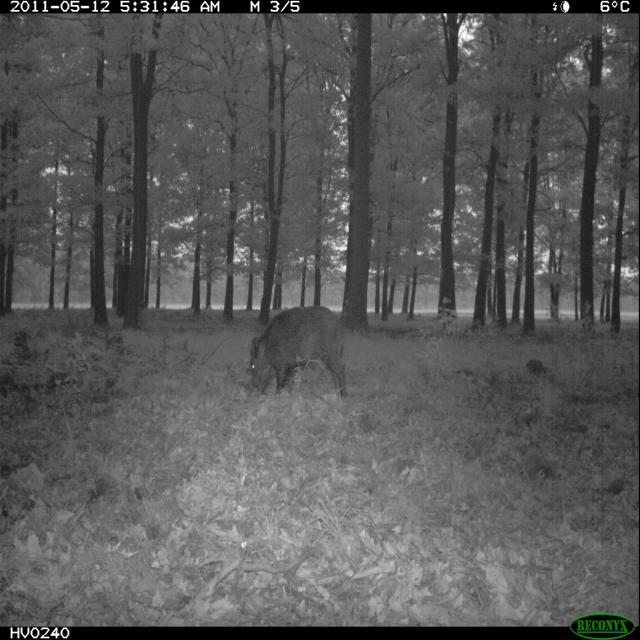boar: (228, 295, 358, 419)
